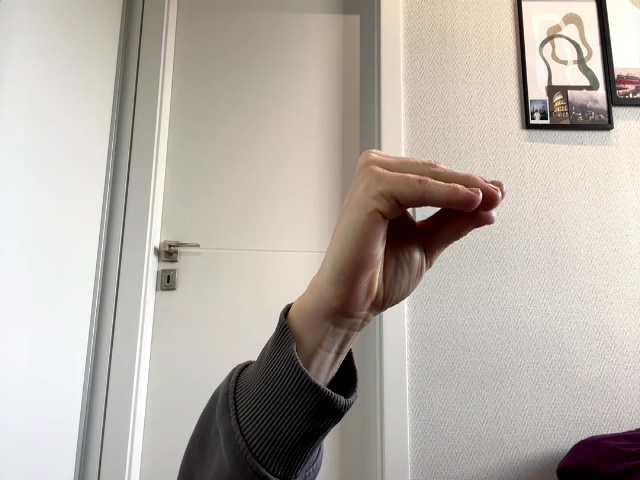E: (315, 150, 505, 321)
